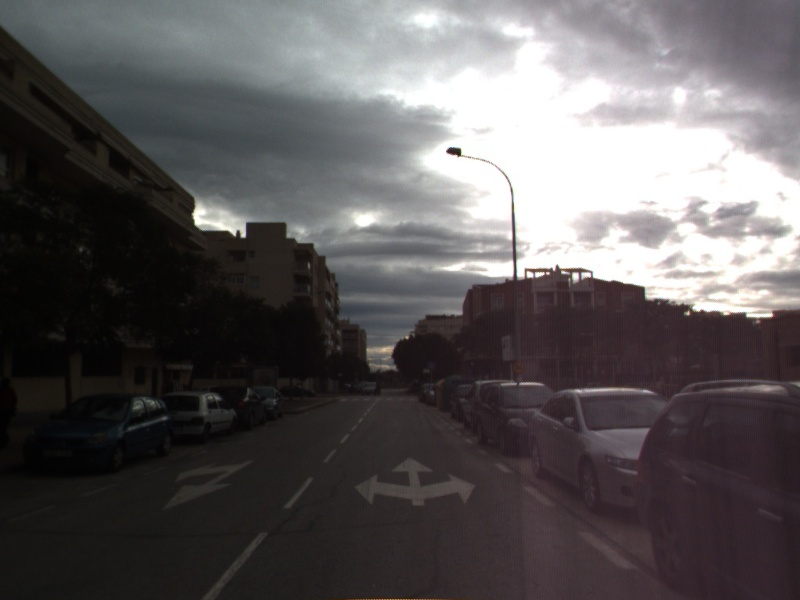STRAIGHT_LEFT_RIGHT: (352, 454, 479, 508)
